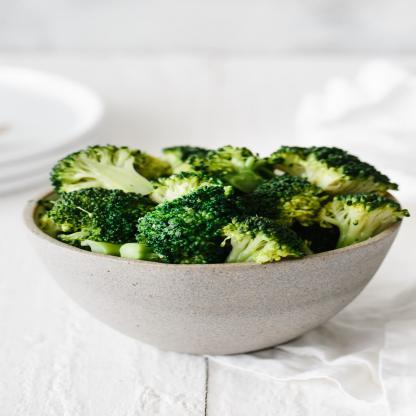broccoli: (36, 142, 410, 264)
